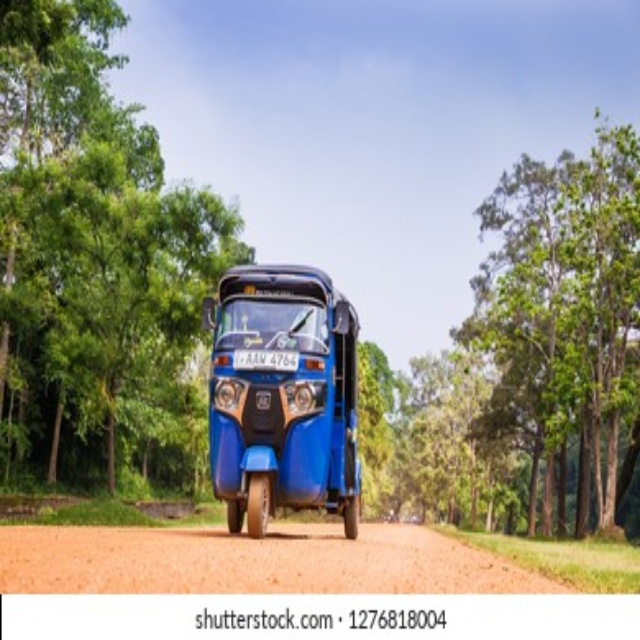Motorcycle: (202, 263, 364, 539)
